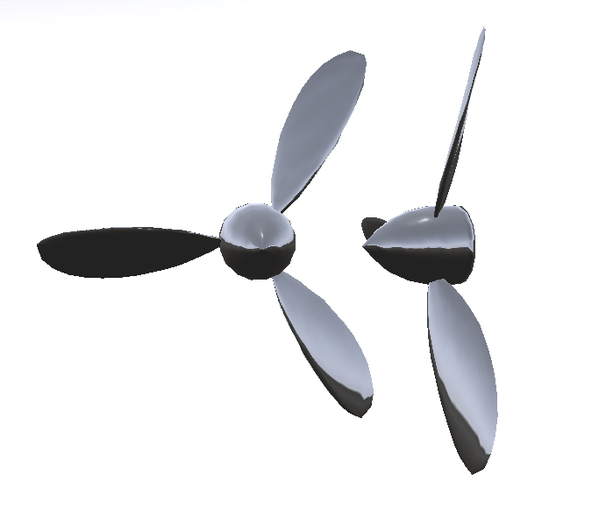Propeller: (34, 63, 351, 414), (366, 27, 514, 478)
